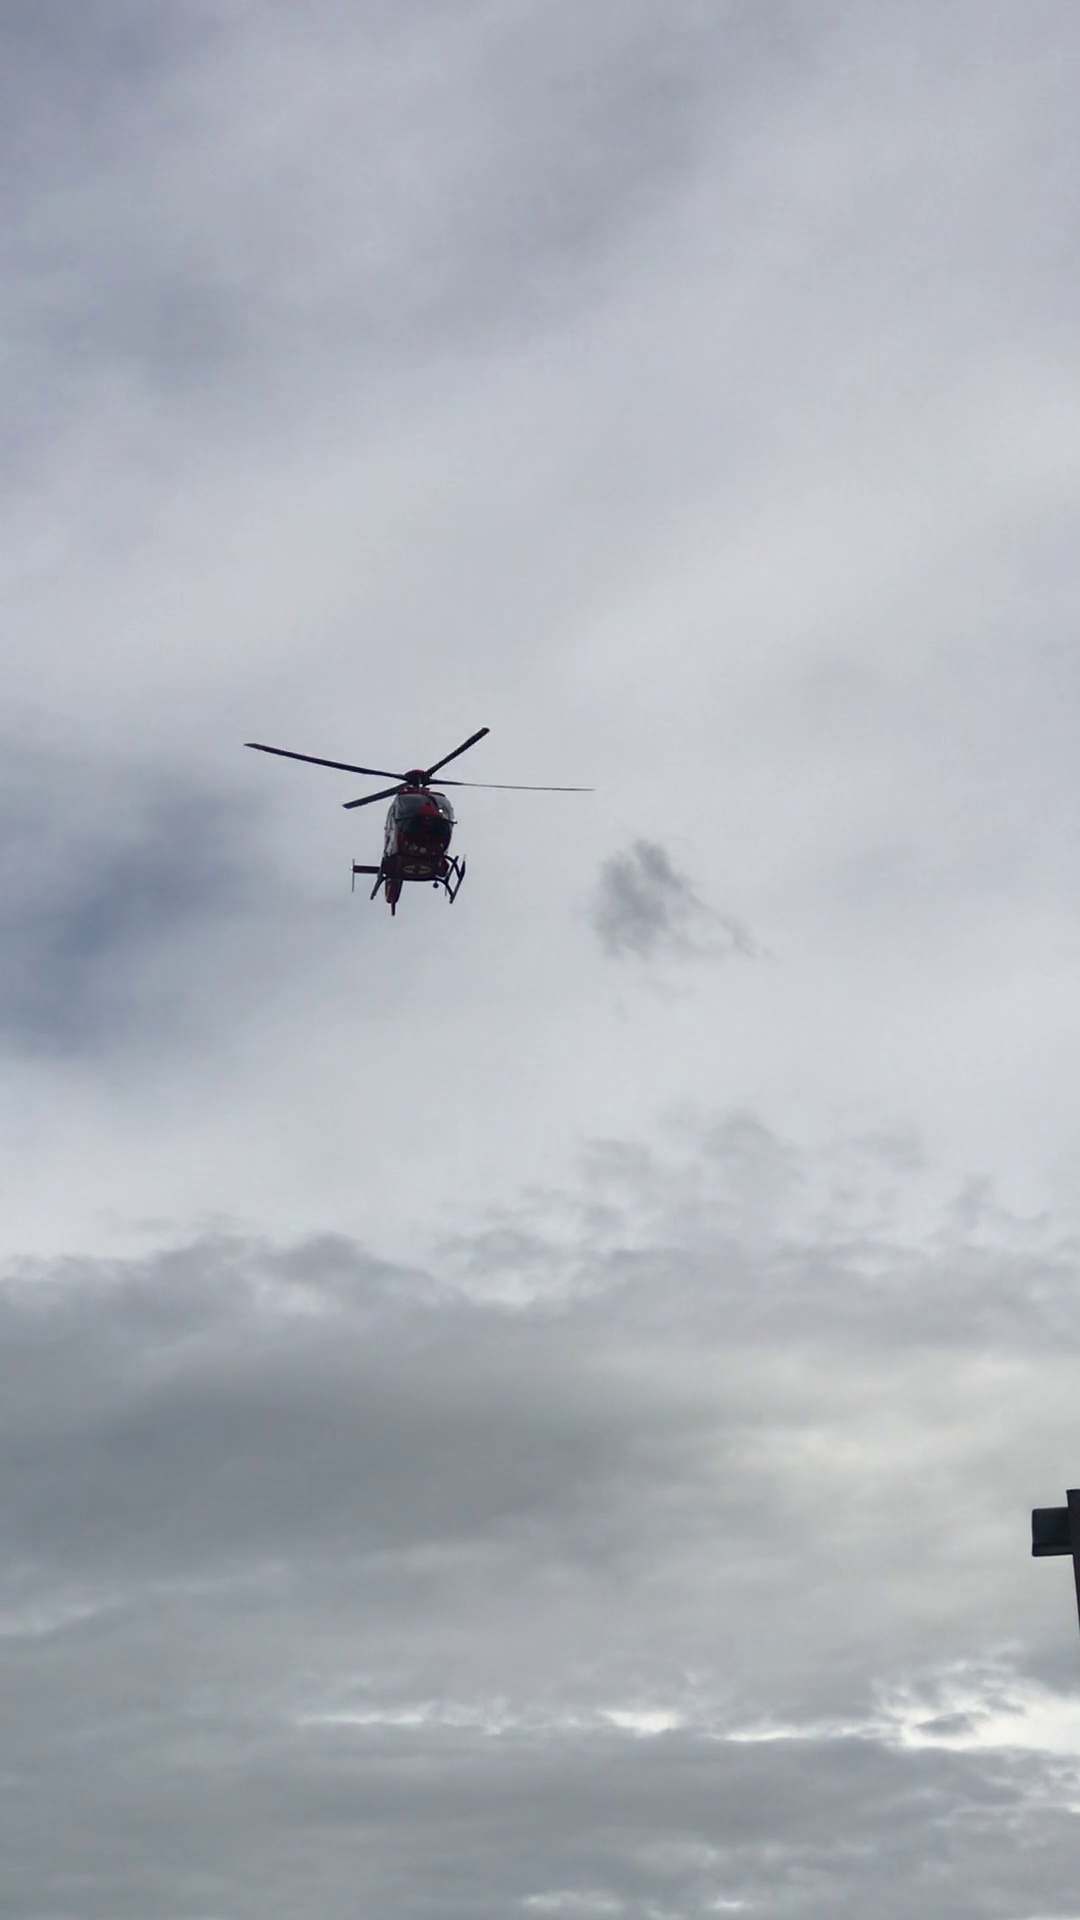heli: (240, 727, 595, 915)
